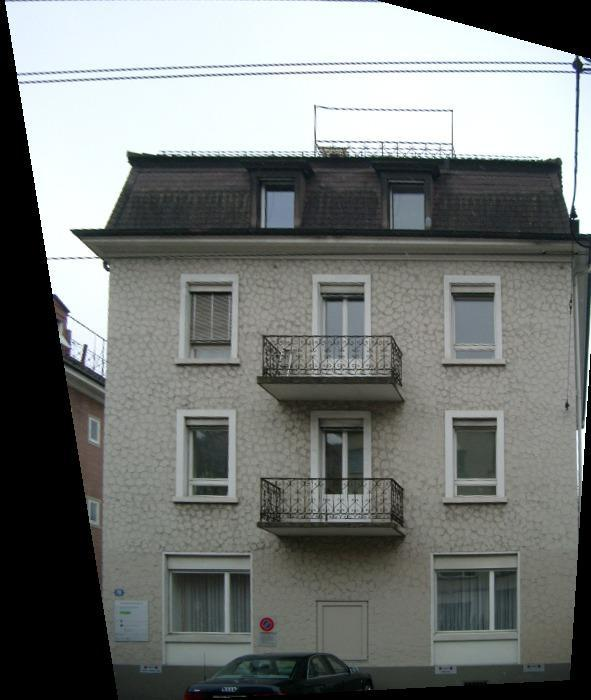window: (429, 569, 520, 639), (164, 569, 254, 639), (318, 417, 369, 523), (319, 283, 366, 375), (182, 418, 229, 496), (451, 419, 498, 497), (450, 284, 497, 361), (186, 283, 233, 360), (256, 178, 295, 229), (388, 179, 427, 230)
